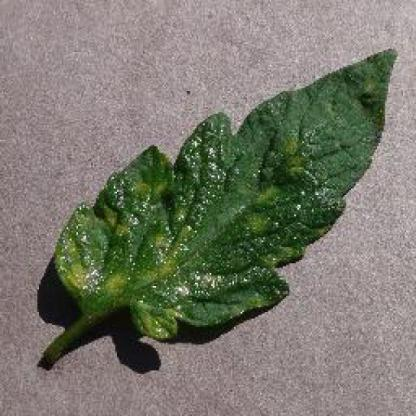Tomato_Leaf_Mold: (58, 47, 397, 341)
